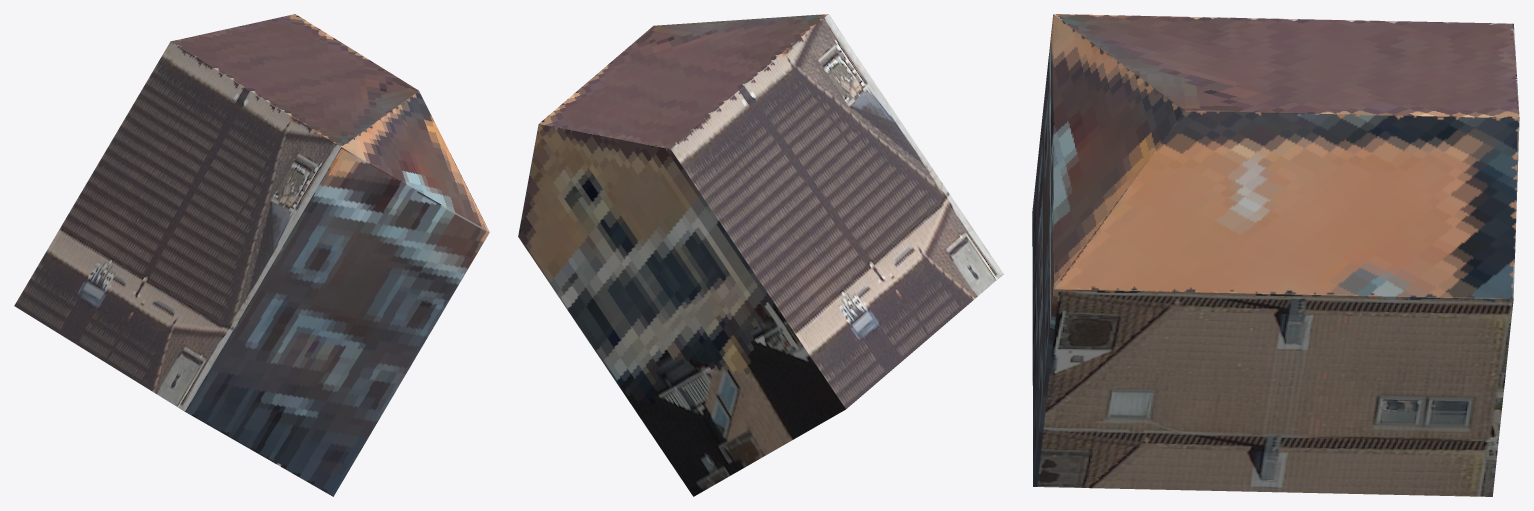
The picture shows the model from 3 angles, left to right: view 1: azimuth 30°, elevation 25°; view 2: azimuth 150°, elevation 25°; view 3: azimuth 270°, elevation 25°; orthographic projection. The views are drawn at different scales.
Parts seen in each view (by area): view 1: BAG_0599100000760394; view 2: BAG_0599100000760394 (×2); view 3: BAG_0599100000760394 (×2).
Part boxes in pixels (x1,y1,x2,y2): BAG_0599100000760394: [14, 14, 489, 496]; BAG_0599100000760394 (×2): [518, 14, 1003, 496]; BAG_0599100000760394 (×2): [1032, 14, 1519, 496].
Bounding box in the file's own units: 13.42 × 14.07 × 12.44.
3 materials, 3 textured.
